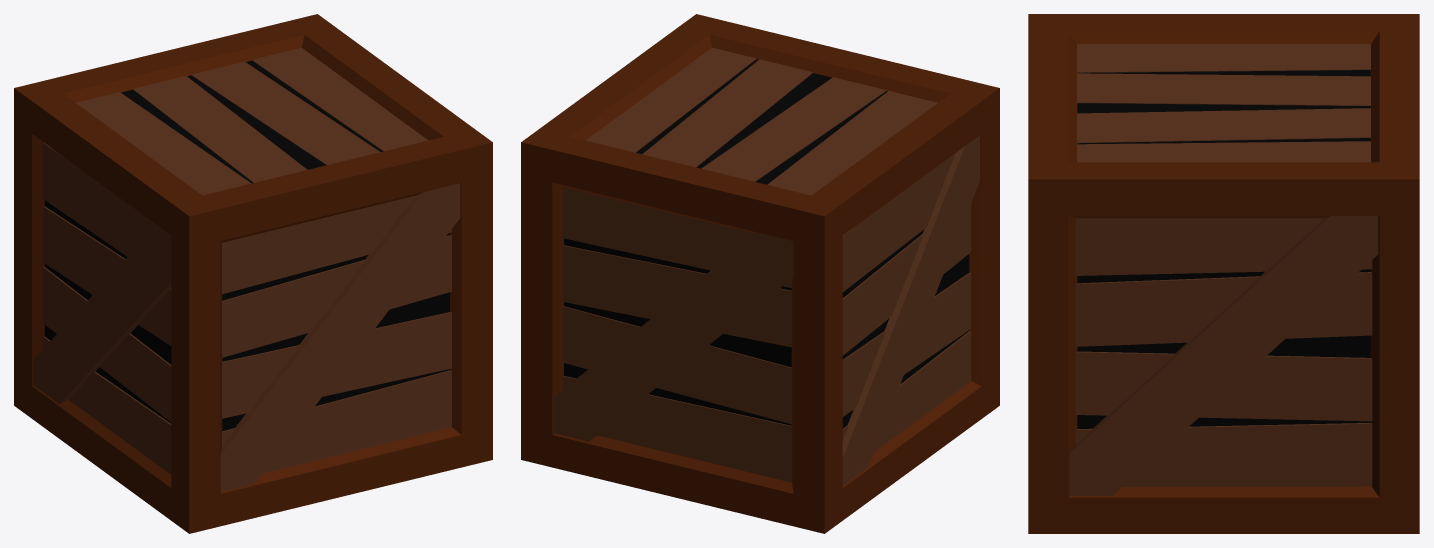
Rendered from crate.fbx.
3 views of the same model, side by side, from view 1: azimuth 30°, elevation 25°; view 2: azimuth 150°, elevation 25°; view 3: azimuth 270°, elevation 25° (orthographic). The views are drawn at different scales.
Visible parts, largest first — view 1: crate; view 2: crate; view 3: crate.
Boxes of the visible parts, <box> form: crate: <box>14,14,492,533</box>; crate: <box>521,14,999,533</box>; crate: <box>1028,14,1419,533</box>.
Bounding box in the file's own units: 106 × 106 × 106.
